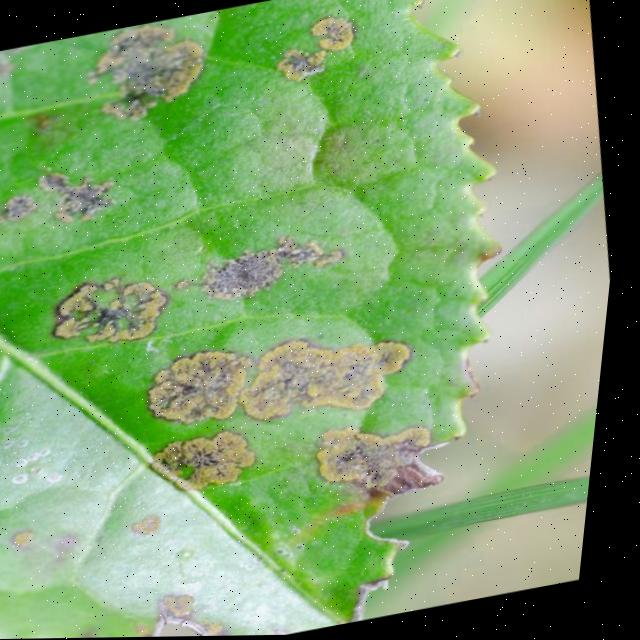Tea red rust: (0, 0, 482, 581)
